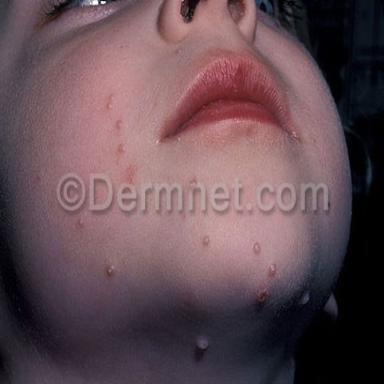Molluscum-Contagiosum: (106, 264, 116, 277), (197, 340, 210, 350), (253, 242, 261, 254), (268, 264, 276, 276), (118, 144, 126, 154), (203, 235, 210, 246), (116, 119, 122, 129), (107, 102, 113, 110), (79, 220, 84, 226)
